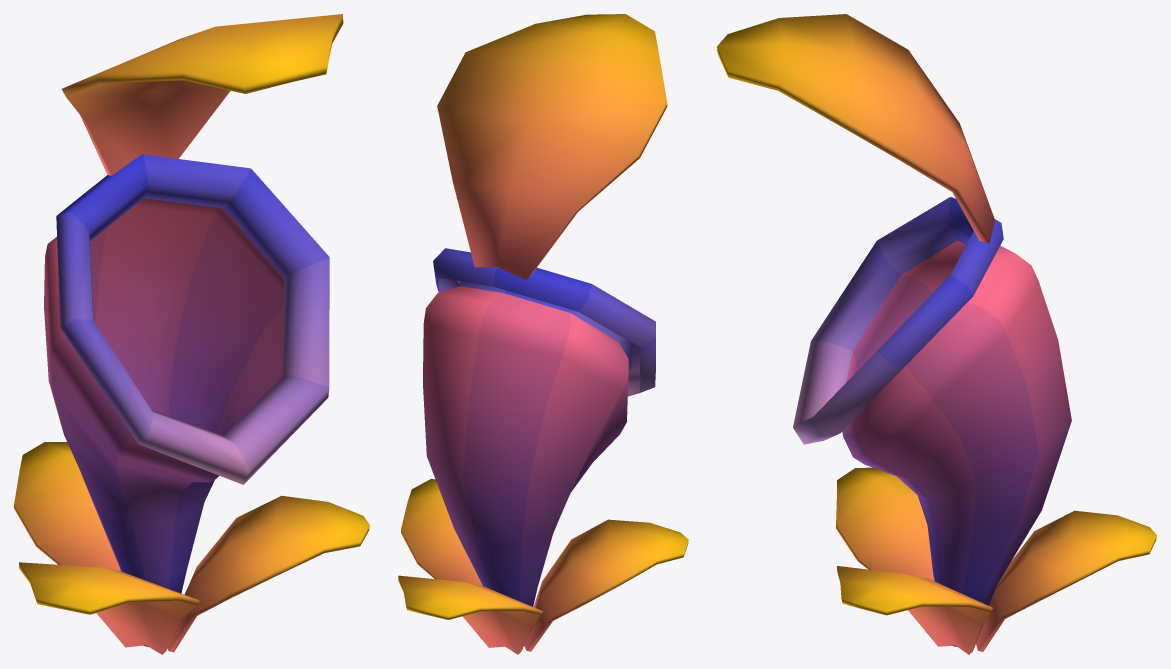
File: anp_PlantFlower_1.fbx
The picture shows the model from 3 angles, left to right: view 1: azimuth 30°, elevation 25°; view 2: azimuth 150°, elevation 25°; view 3: azimuth 270°, elevation 25°; orthographic projection. The views are drawn at different scales.
Visible parts, largest first — view 1: pf1; view 2: pf1; view 3: pf1.
Boxes of the visible parts, x1,y1,x2,y2 form: pf1: (14, 14, 369, 654); pf1: (398, 14, 688, 654); pf1: (717, 14, 1156, 654).
Bounding box in the file's own units: 82.51 × 161 × 107.
